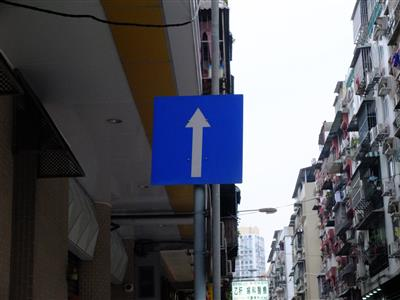oneway: (146, 87, 248, 187)
